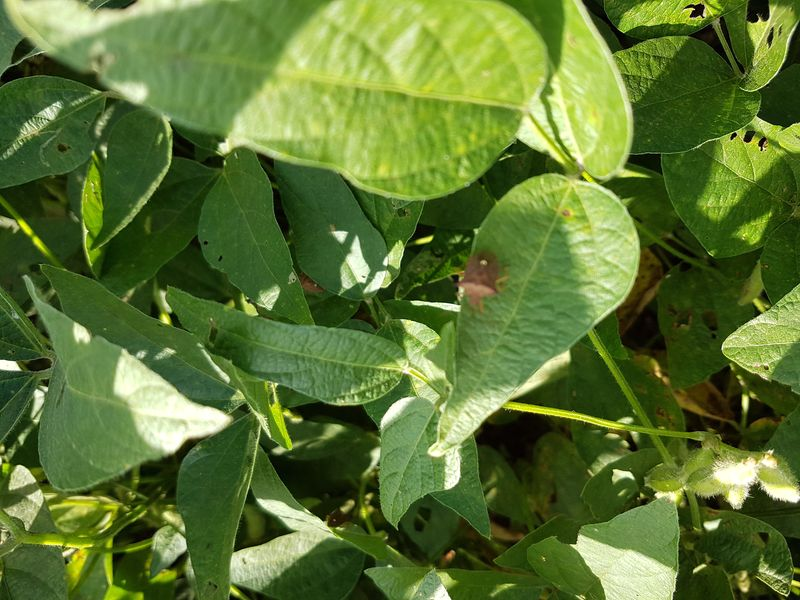Euschistus_heros_adulto: (451, 244, 514, 320), (293, 265, 329, 302)
